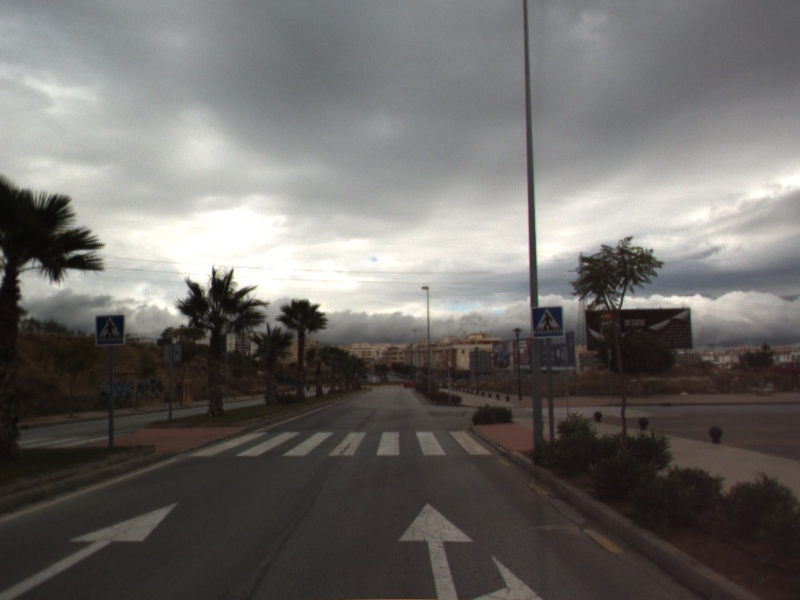STRAIGHT: (1, 500, 181, 600)
STRAIGHT_RIGHT: (396, 500, 548, 600)
